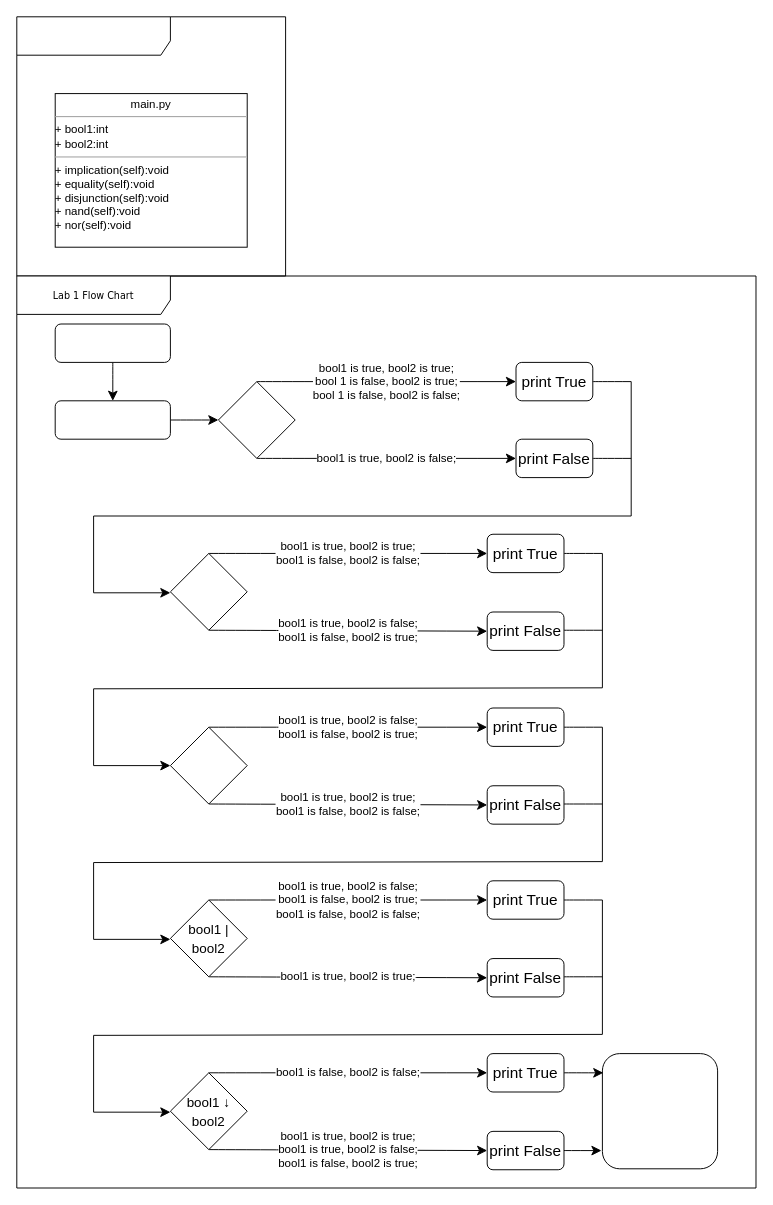
The diagram is 773 pixels wide and 1205 high, and some of its shapes have lost their labels. The box of each missing label's shape, as (x1, y1, x2, y2) in pixels:
bool1 = bool2: (169, 552, 247, 630)
bool1 ⇒ bool2: (217, 381, 295, 458)
bool1 ⊕ bool2: (169, 726, 247, 804)
Input(bool1): (54, 323, 170, 362)
Input(bool2): (54, 400, 170, 439)
Lab 1 Class Diagram: (16, 16, 286, 276)
print Program End: (601, 1053, 718, 1169)
